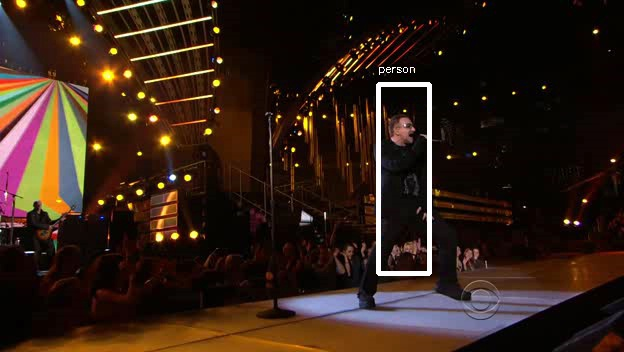person: (372, 117, 440, 240), (369, 117, 437, 240), (375, 117, 443, 240), (372, 114, 440, 237), (372, 120, 440, 243)
target_negative: (196, 271, 528, 319), (529, 306, 618, 351), (24, 319, 183, 344), (507, 241, 558, 307), (611, 299, 620, 331), (618, 284, 623, 285)
